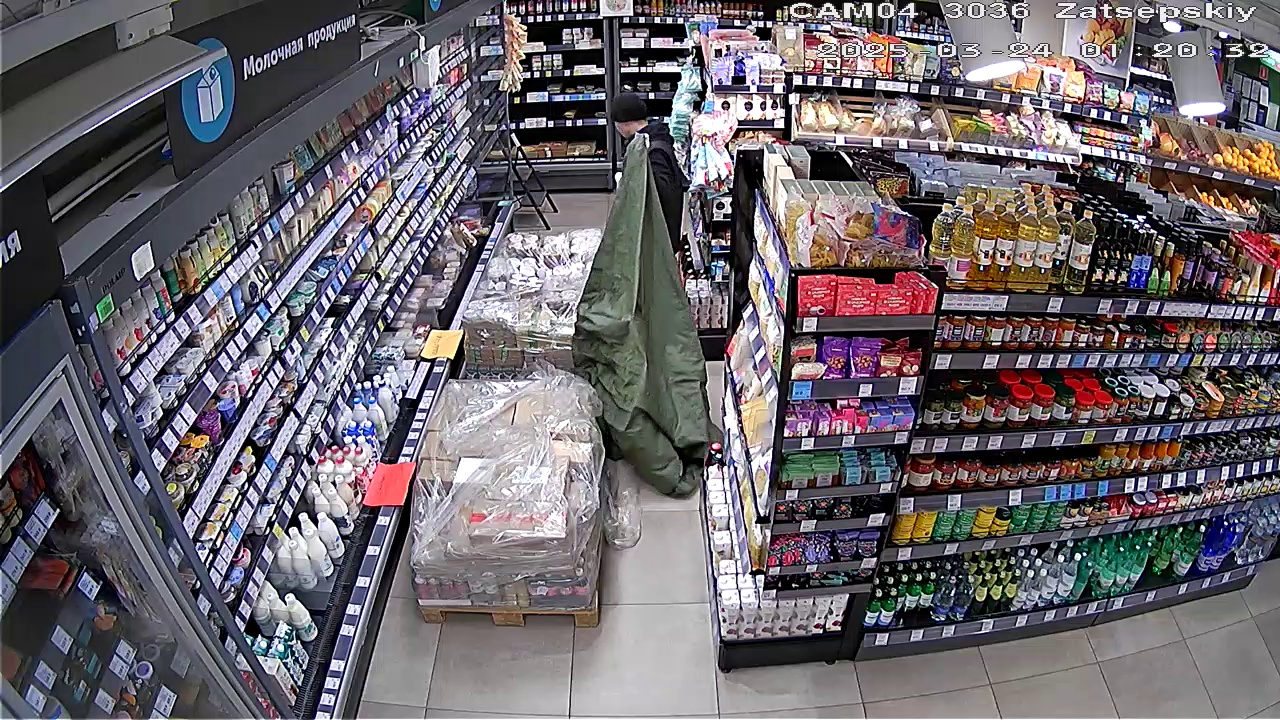Human: (600, 88, 685, 251)
pallet: (406, 365, 601, 619), (468, 222, 596, 361)
